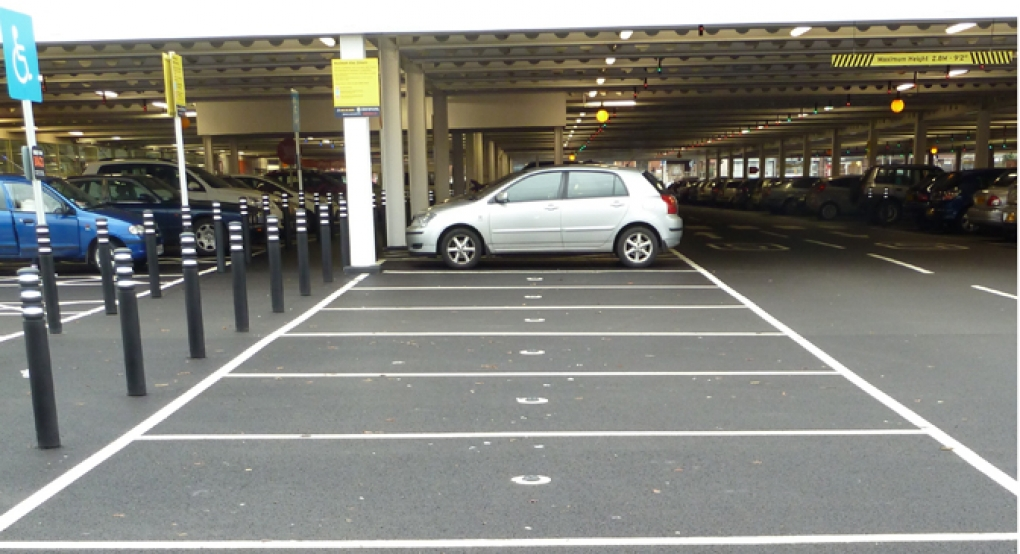empyt_space: (5, 434, 1020, 551), (118, 368, 939, 445), (217, 326, 854, 385), (278, 302, 807, 345), (316, 281, 764, 318), (344, 265, 732, 296)
